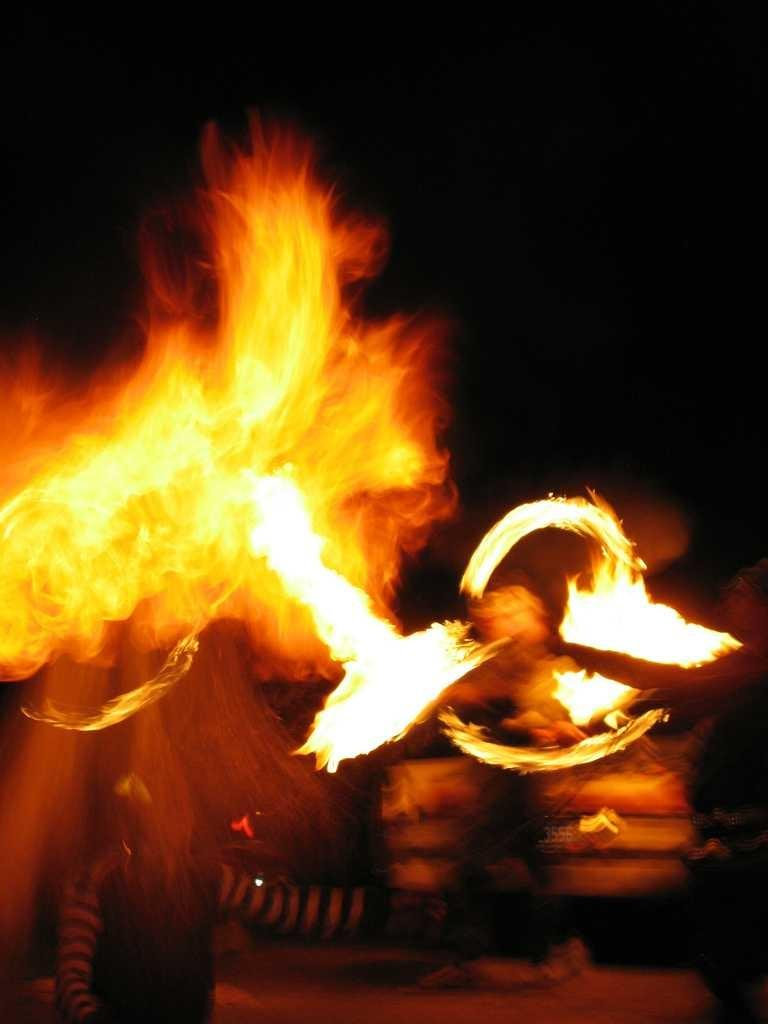fire: (5, 400, 375, 608), (220, 180, 322, 385), (335, 642, 465, 700), (568, 598, 682, 660)
